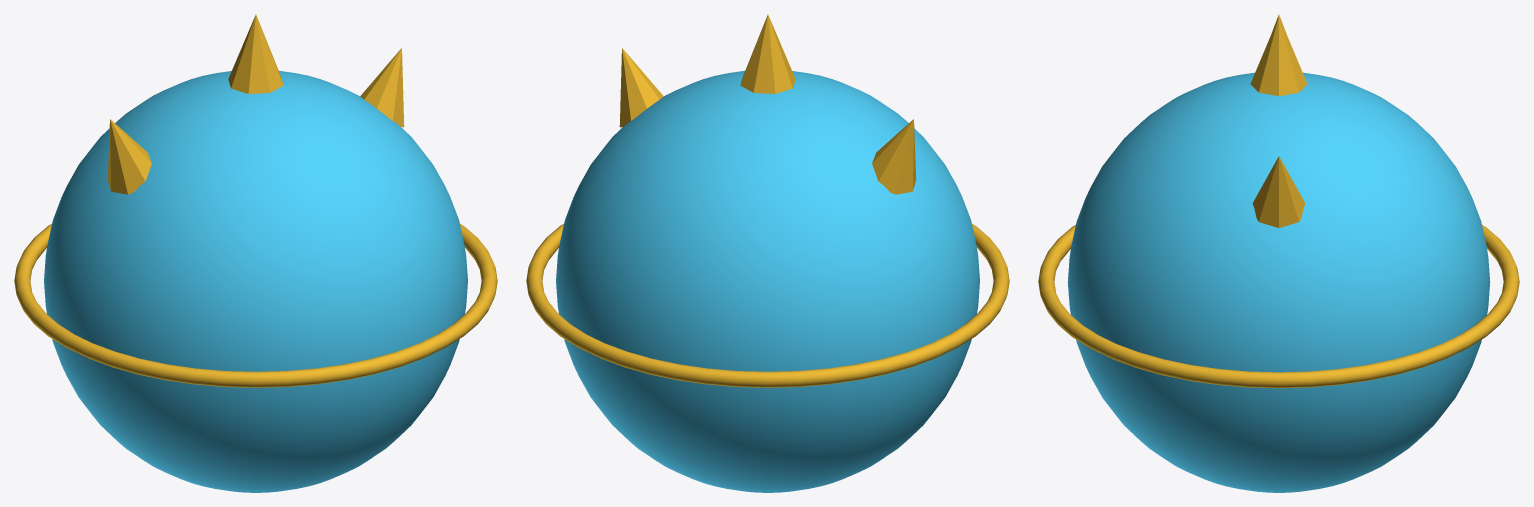
File: Ball_10.fbx
The picture shows the model from 3 angles, left to right: view 1: azimuth 30°, elevation 25°; view 2: azimuth 150°, elevation 25°; view 3: azimuth 270°, elevation 25°; orthographic projection.
Parts seen in each view (by area): view 1: Ball_10_WorldCreator_Shell, Ball_10_WorldCreator_Body; view 2: Ball_10_WorldCreator_Shell, Ball_10_WorldCreator_Body; view 3: Ball_10_WorldCreator_Shell, Ball_10_WorldCreator_Body.
Boxes of the visible parts, x1=… form: Ball_10_WorldCreator_Shell: x1=44, y1=70, x2=467, y2=492; Ball_10_WorldCreator_Body: x1=14, y1=14, x2=497, y2=387; Ball_10_WorldCreator_Shell: x1=556, y1=70, x2=979, y2=492; Ball_10_WorldCreator_Body: x1=526, y1=14, x2=1009, y2=387; Ball_10_WorldCreator_Shell: x1=1068, y1=72, x2=1489, y2=492; Ball_10_WorldCreator_Body: x1=1038, y1=14, x2=1519, y2=388.
Size of the model in its own units: 269 by 282 by 269.
3 materials, 3 textured.
